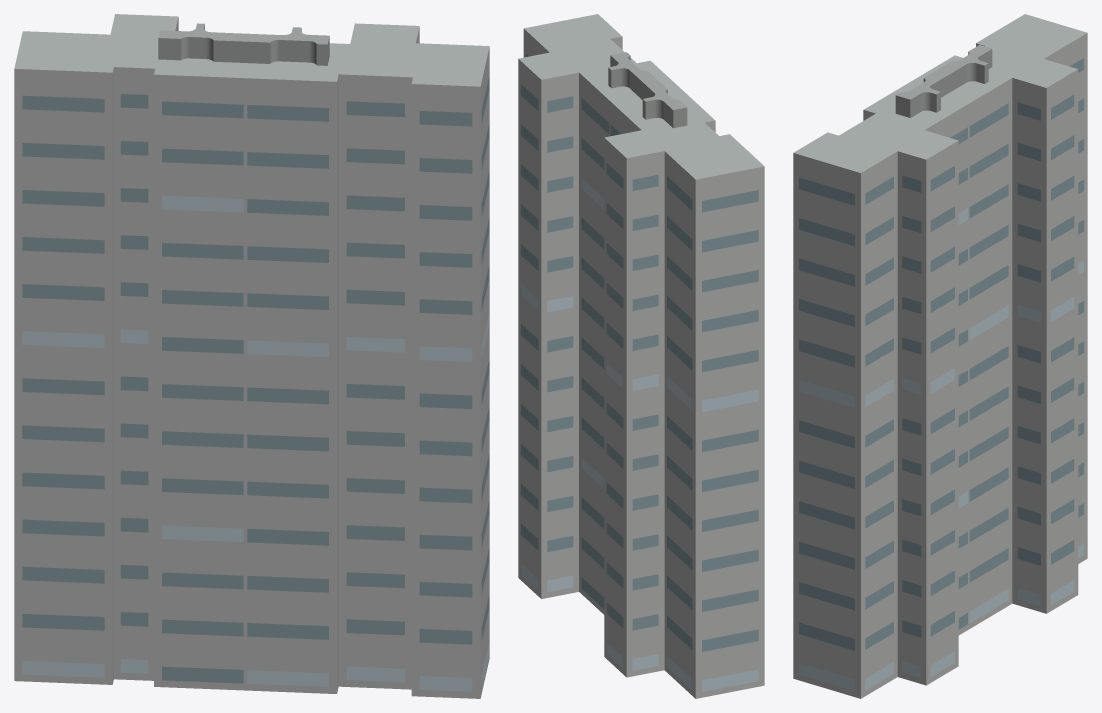
The model's file is fallback-lake-palace-123.glb.
3 views of the same model, side by side, from view 1: azimuth 30°, elevation 25°; view 2: azimuth 150°, elevation 25°; view 3: azimuth 270°, elevation 25° (orthographic). The views are drawn at different scales.
Parts seen in each view (by area): view 1: fallback-lake-palace-123; view 2: fallback-lake-palace-123; view 3: fallback-lake-palace-123.
Boxes of the visible parts, x1=… form: fallback-lake-palace-123: x1=14, y1=14, x2=489, y2=698; fallback-lake-palace-123: x1=518, y1=14, x2=764, y2=698; fallback-lake-palace-123: x1=793, y1=14, x2=1087, y2=698.
Bounding box in the file's own units: 44.52 × 71 × 34.8.
